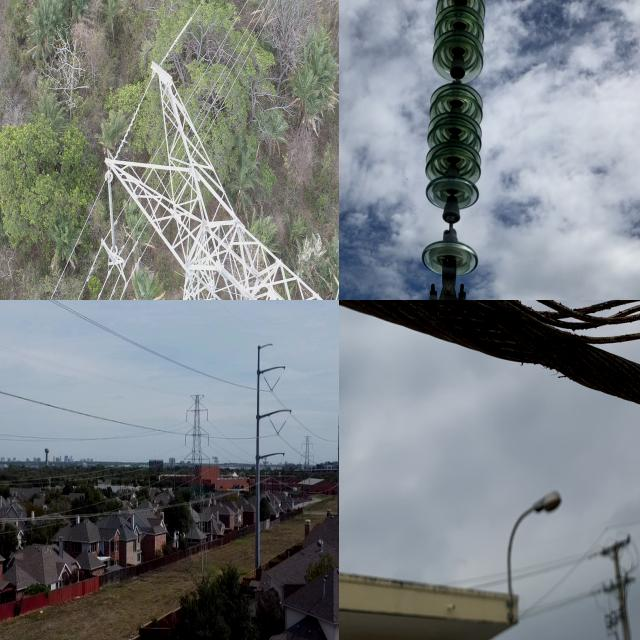杆塔: (90, 30, 339, 300), (178, 385, 215, 579)
正常绝缘子: (418, 0, 488, 300), (104, 170, 119, 256), (267, 370, 284, 396), (275, 414, 290, 439), (266, 416, 281, 437), (262, 373, 274, 395)
电缆破损: (357, 300, 640, 415)
绝缘子破损: (442, 205, 461, 238), (449, 67, 464, 87)
